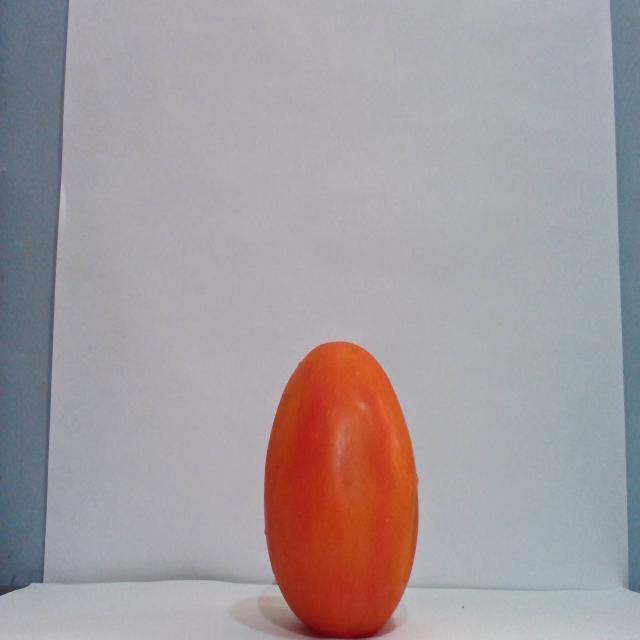Red: (262, 339, 420, 637)
